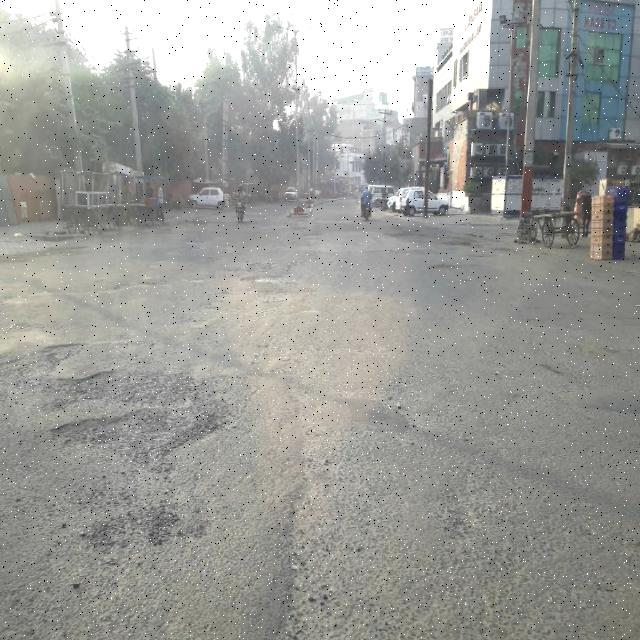D40: (1, 309, 251, 576)
